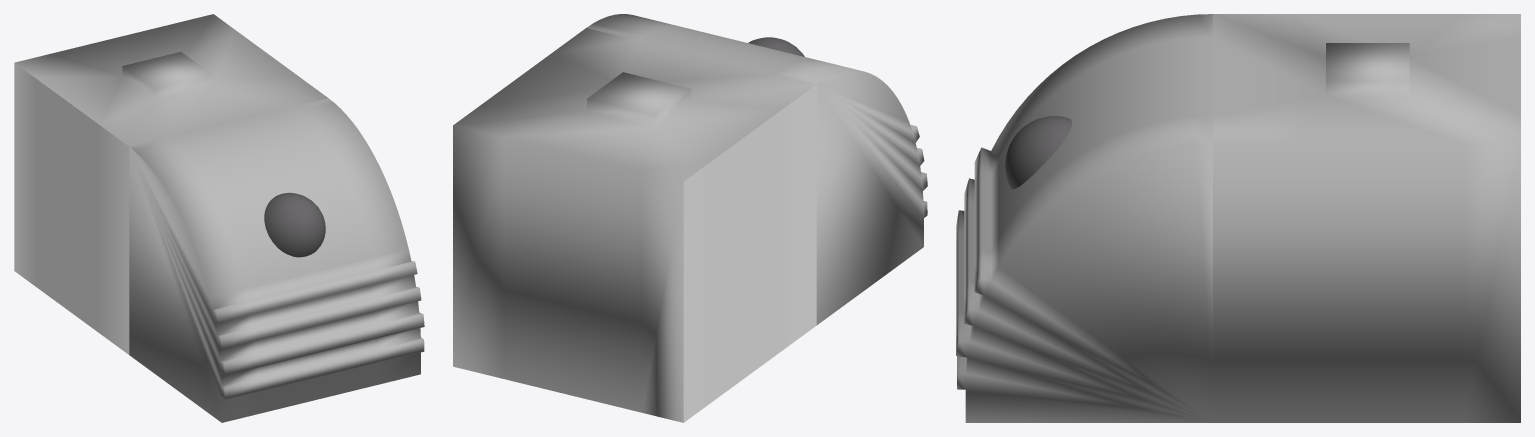
Rendered from Autopilot-Block_Large_Constr3.fbx.
The picture shows the model from 3 angles, left to right: view 1: azimuth 30°, elevation 25°; view 2: azimuth 150°, elevation 25°; view 3: azimuth 270°, elevation 25°; orthographic projection. The views are drawn at different scales.
Visible parts, largest first — view 1: Cube.001, Sphere.000; view 2: Cube.001, Sphere.000; view 3: Cube.001, Sphere.000.
Part boxes in pixels (x1=…): Cube.001: x1=14, y1=14, x2=424, y2=422; Sphere.000: x1=264, y1=192, x2=325, y2=257; Cube.001: x1=453, y1=14, x2=927, y2=422; Sphere.000: x1=748, y1=37, x2=804, y2=56; Cube.001: x1=956, y1=14, x2=1520, y2=422; Sphere.000: x1=1005, y1=116, x2=1071, y2=189.
Size of the model in its own units: 2.5 by 2.63 by 4.59.
